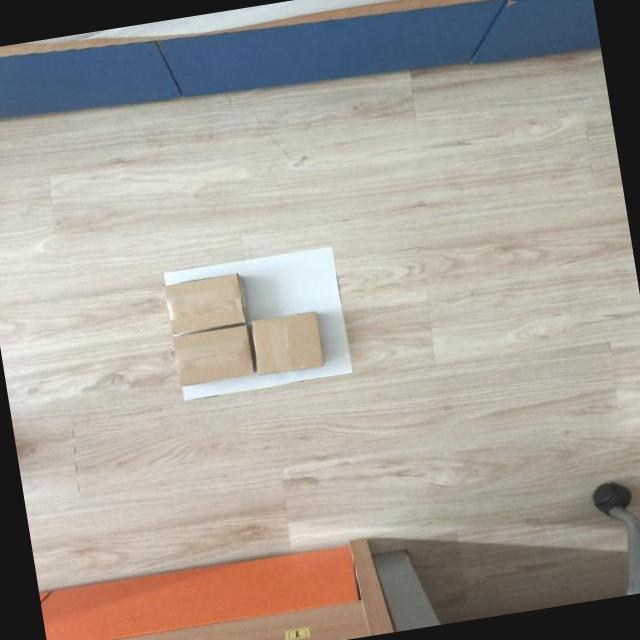box: (162, 273, 249, 334), (249, 310, 327, 378), (172, 325, 256, 387)
